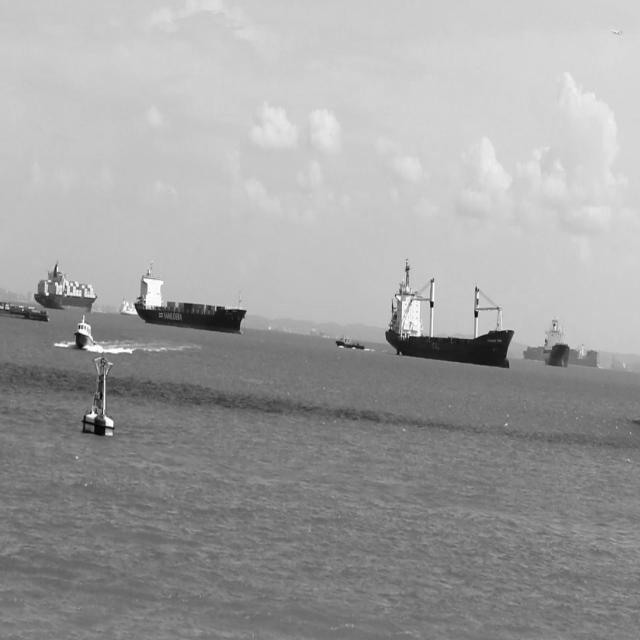buoy: (81, 350, 116, 435)
ship: (385, 256, 515, 368), (134, 260, 248, 335), (34, 259, 98, 314), (522, 343, 598, 369), (543, 318, 571, 368), (0, 301, 49, 322), (74, 315, 94, 350), (335, 333, 366, 351), (120, 298, 138, 316)
